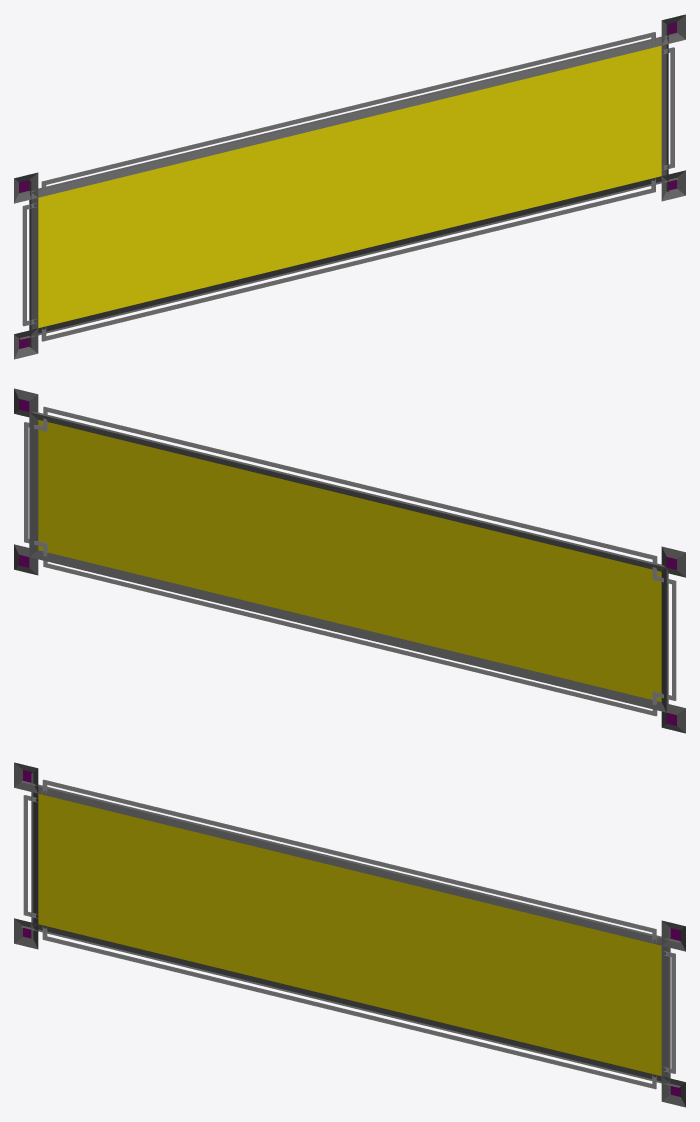
Rendered from title-base-plate.glb.
3 renders of one model, top to bottom at view 1: azimuth 30°, elevation 25°; view 2: azimuth 150°, elevation 25°; view 3: azimuth 330°, elevation 25°, orthographic.
Visible parts, largest first — view 1: R0; view 2: R0; view 3: R0.
Boxes of the visible parts, left/top/right/bottom form: R0: left=14, top=14, right=685, bottom=359; R0: left=14, top=388, right=685, bottom=733; R0: left=14, top=762, right=685, bottom=1107.
Bounding box in the file's own units: 3.88 × 1 × 0.02.
1 material, 1 textured.
